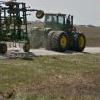Tractor: (32, 3, 91, 63)
